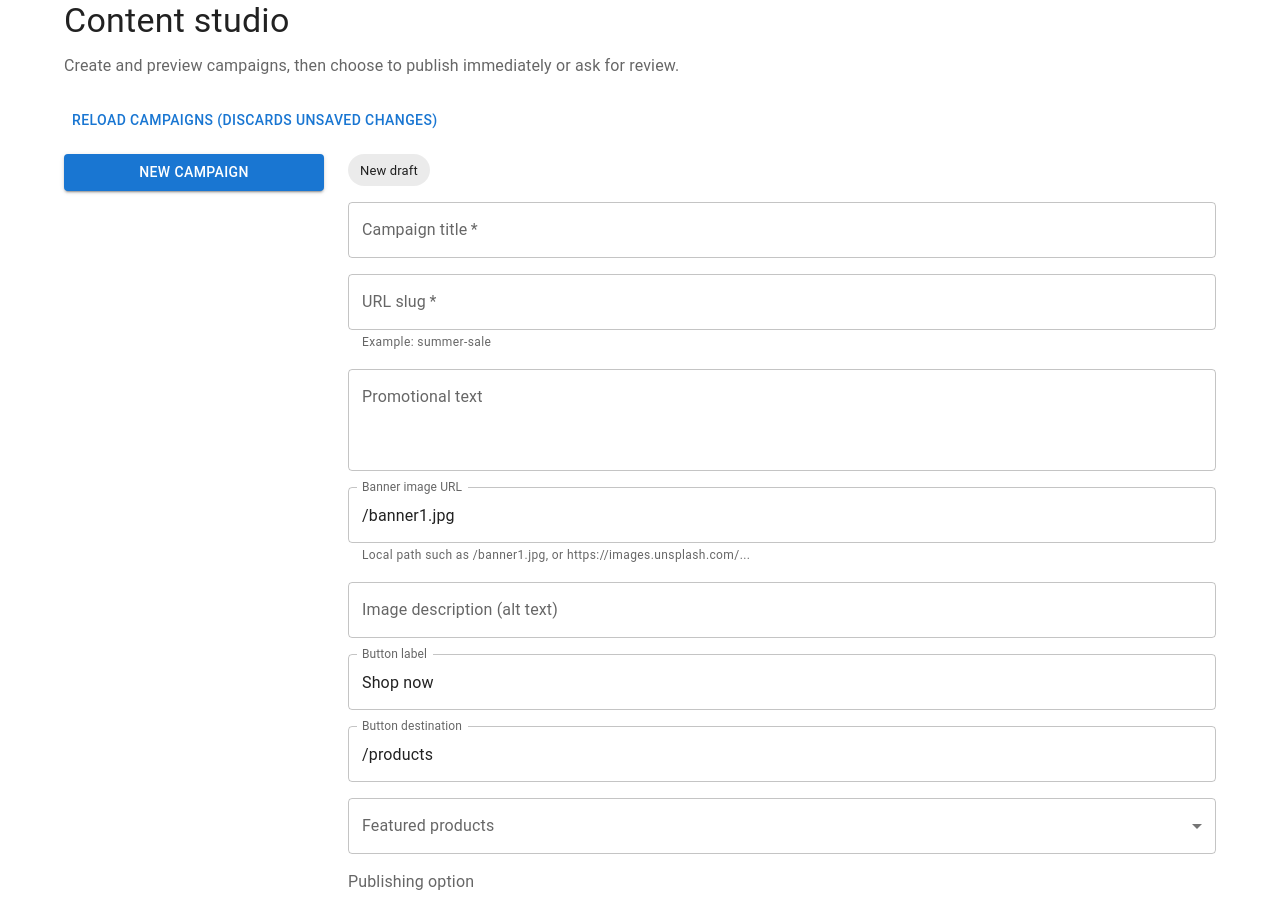
Test case: can choose Publish immediately while creating without saving first
In the field labelled "Campaign title *": {"x": 782, "y": 230} [348, 202, 1216, 258], type "Sale"
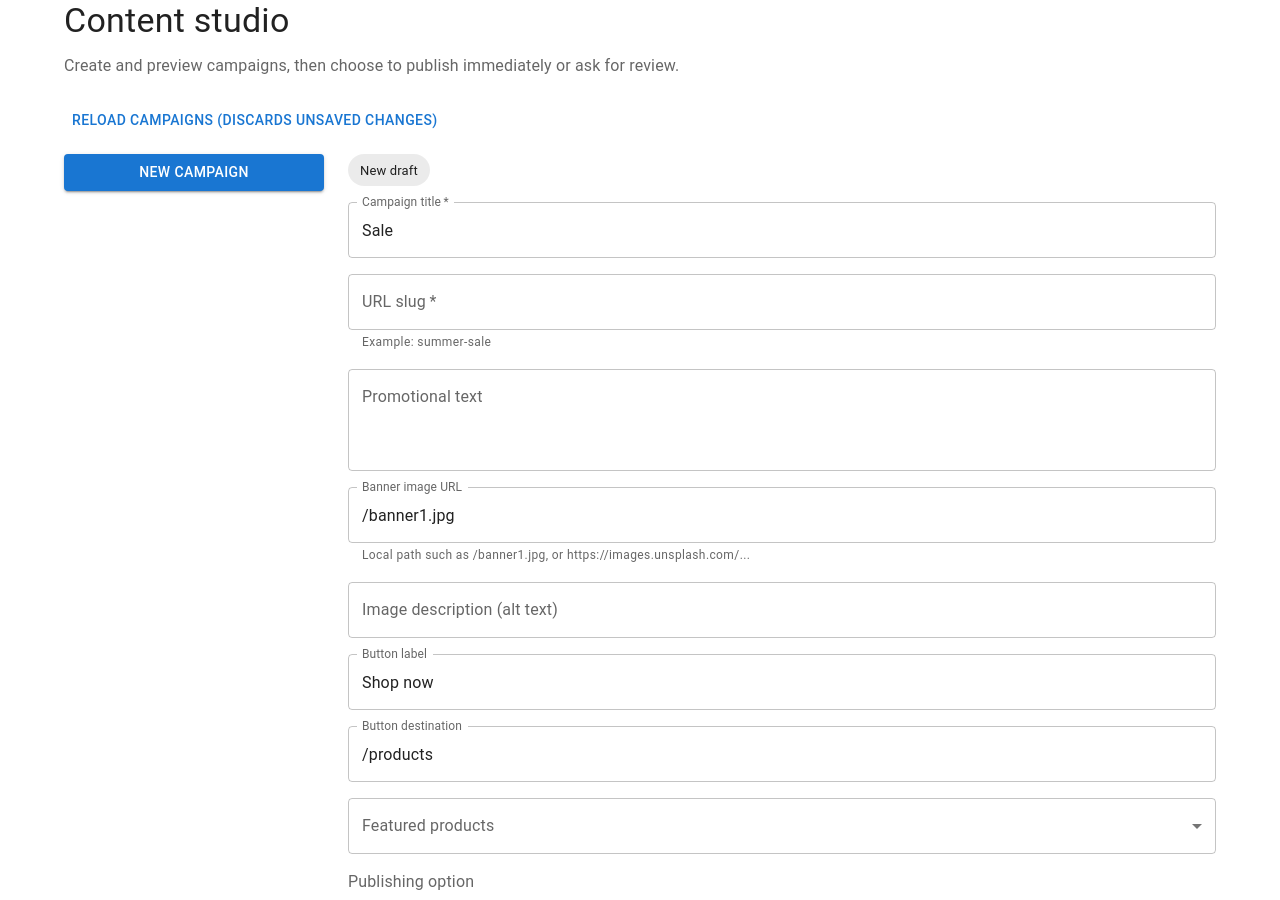
In the field labelled "URL slug *": {"x": 782, "y": 302} [348, 274, 1216, 330], type "sale"
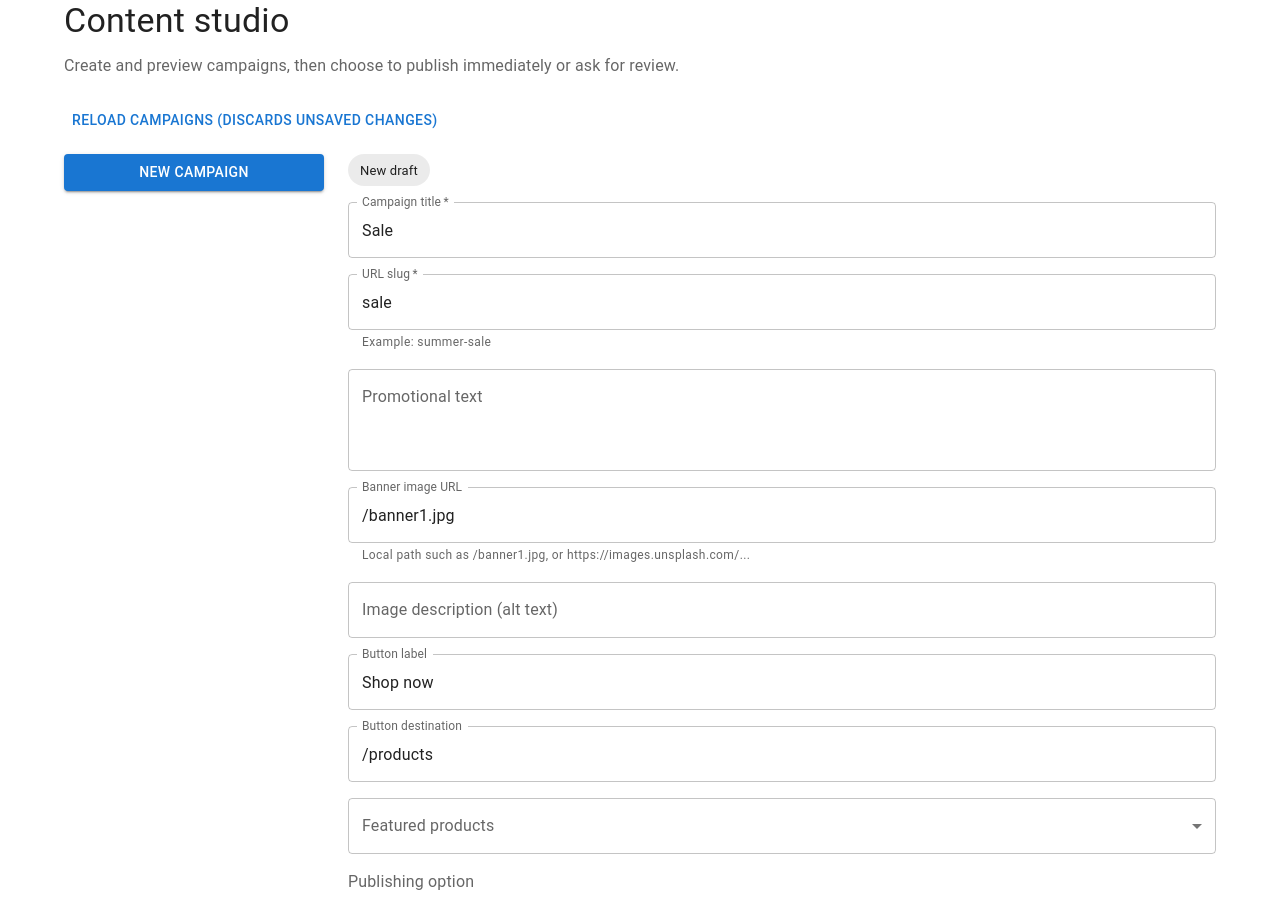
In the text box labelled "Promotional text": {"x": 782, "y": 420} [362, 386, 1202, 455], type "Fresh fruit offers"
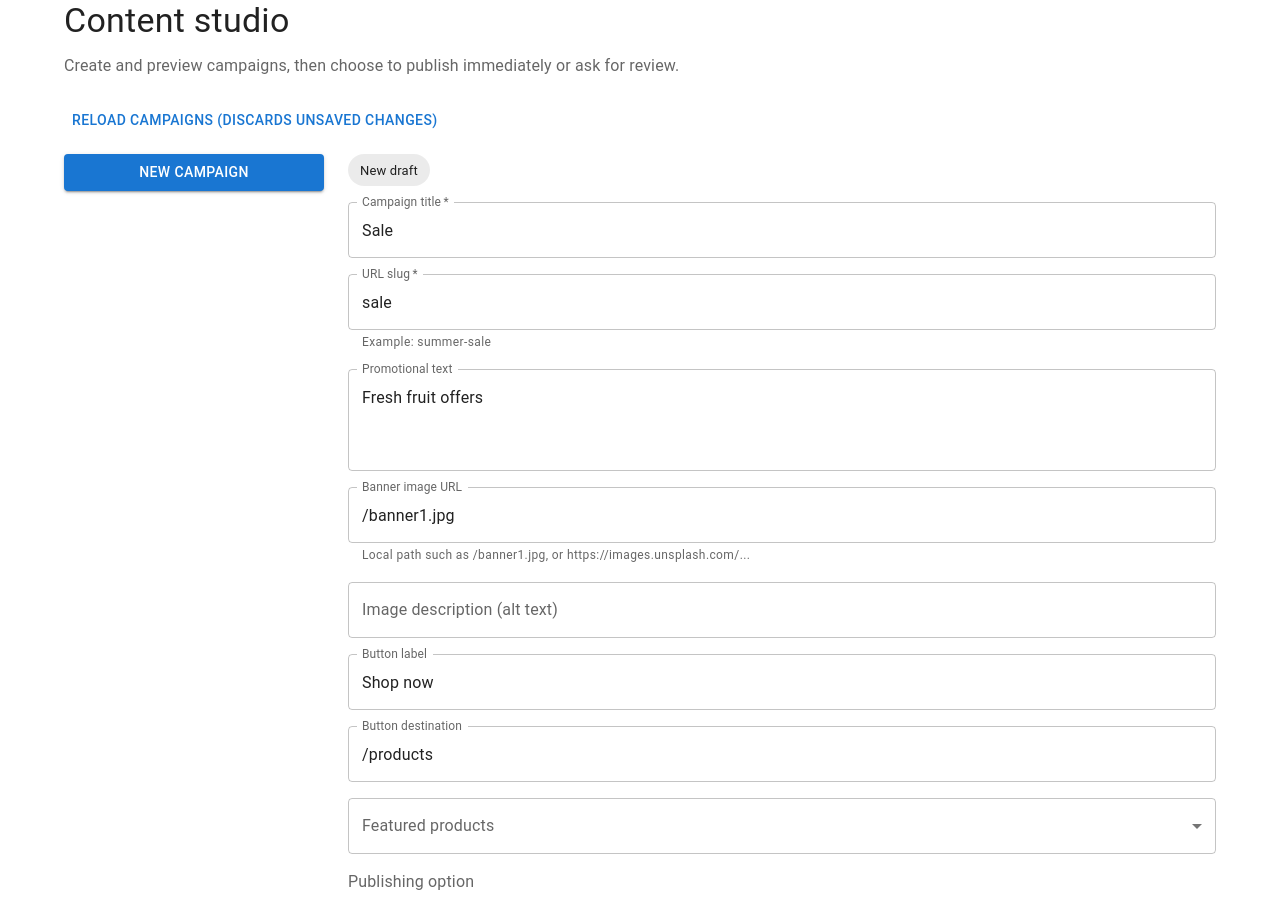
In the field labelled "Image description (alt text)": {"x": 782, "y": 610} [348, 582, 1216, 638], type "Fresh fruit"
(page scrolled)
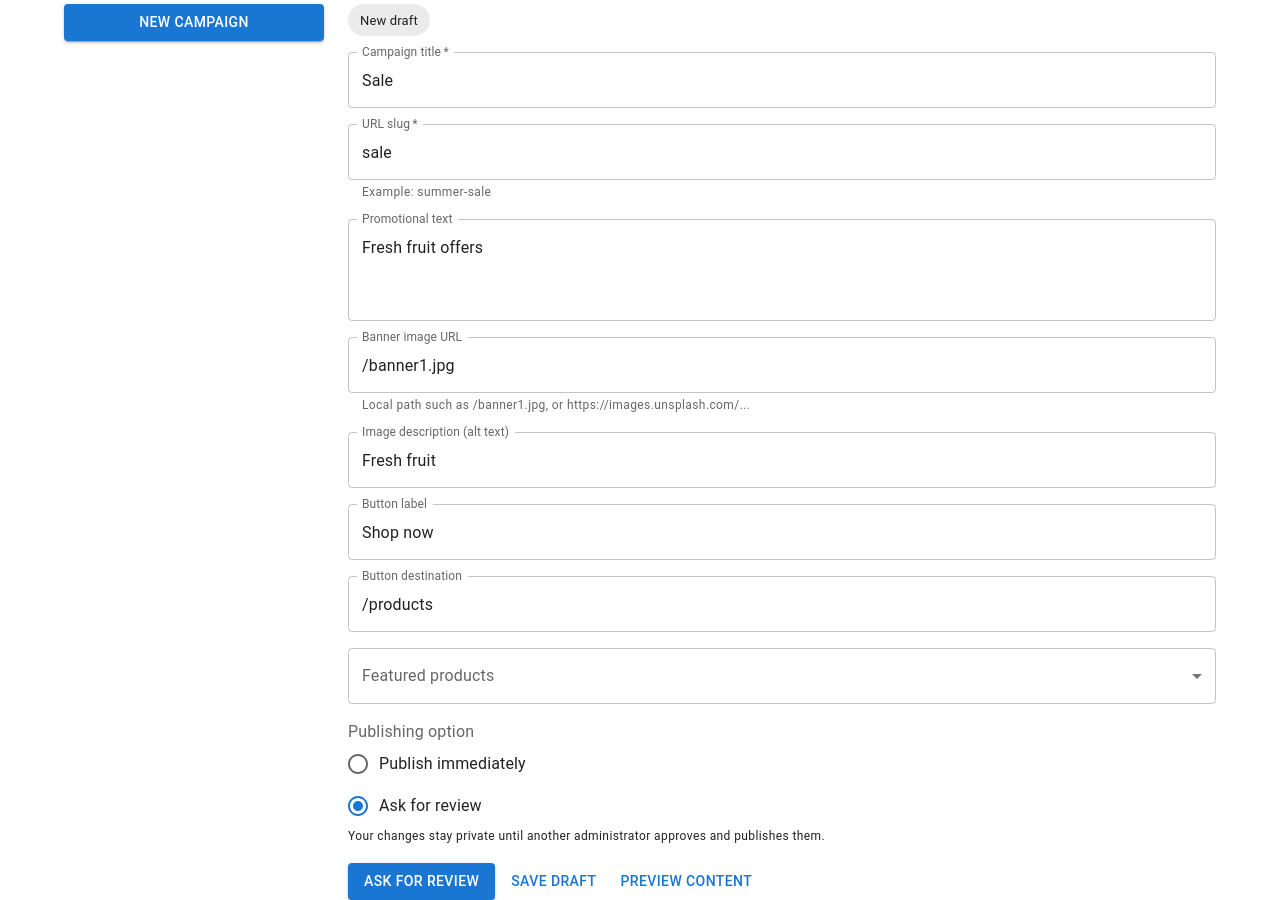
Click the radio button labelled "Publish immediately": {"x": 436, "y": 764} [346, 752, 526, 776]
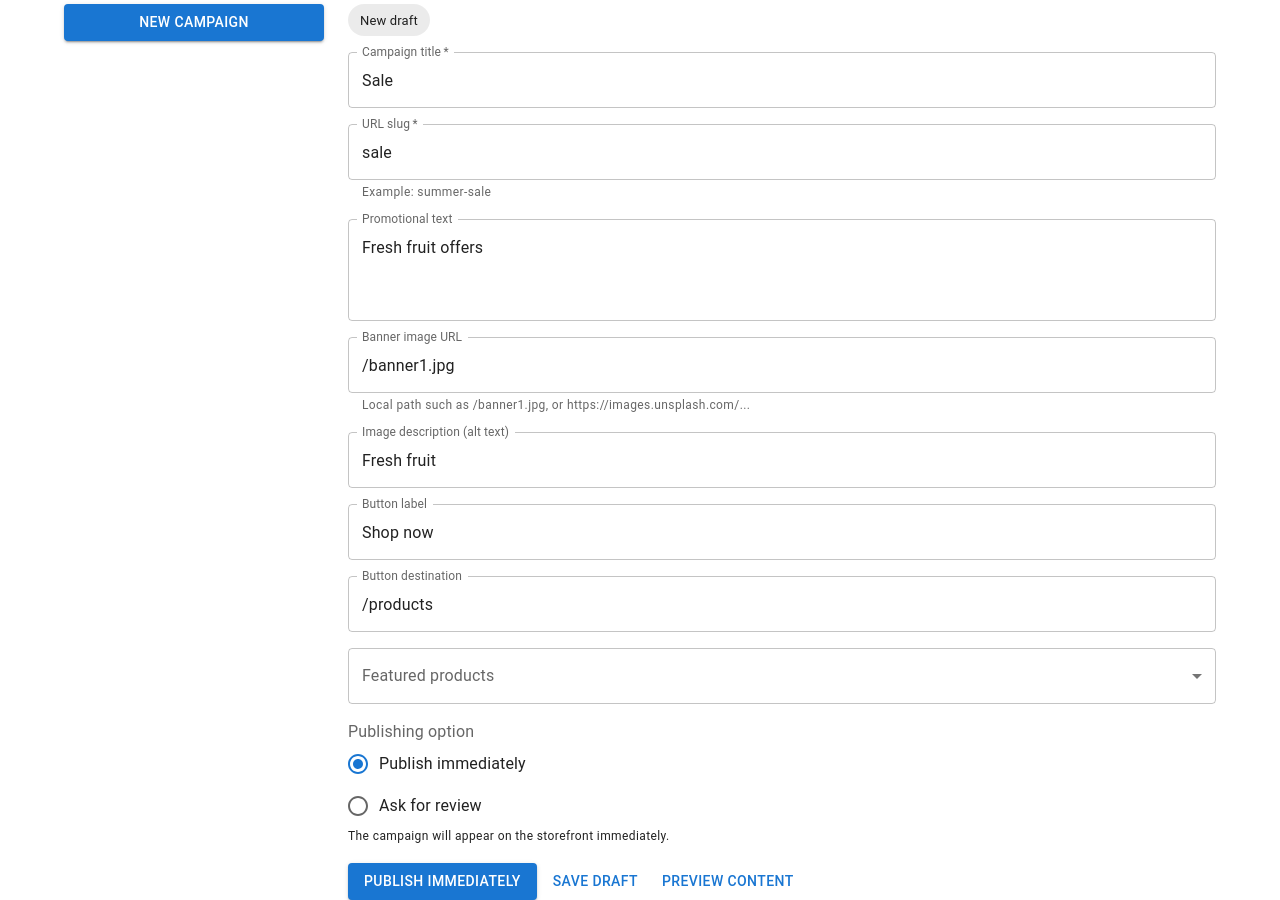
Click the button "Publish immediately": {"x": 442, "y": 881} [348, 863, 537, 899]
(page scrolled)
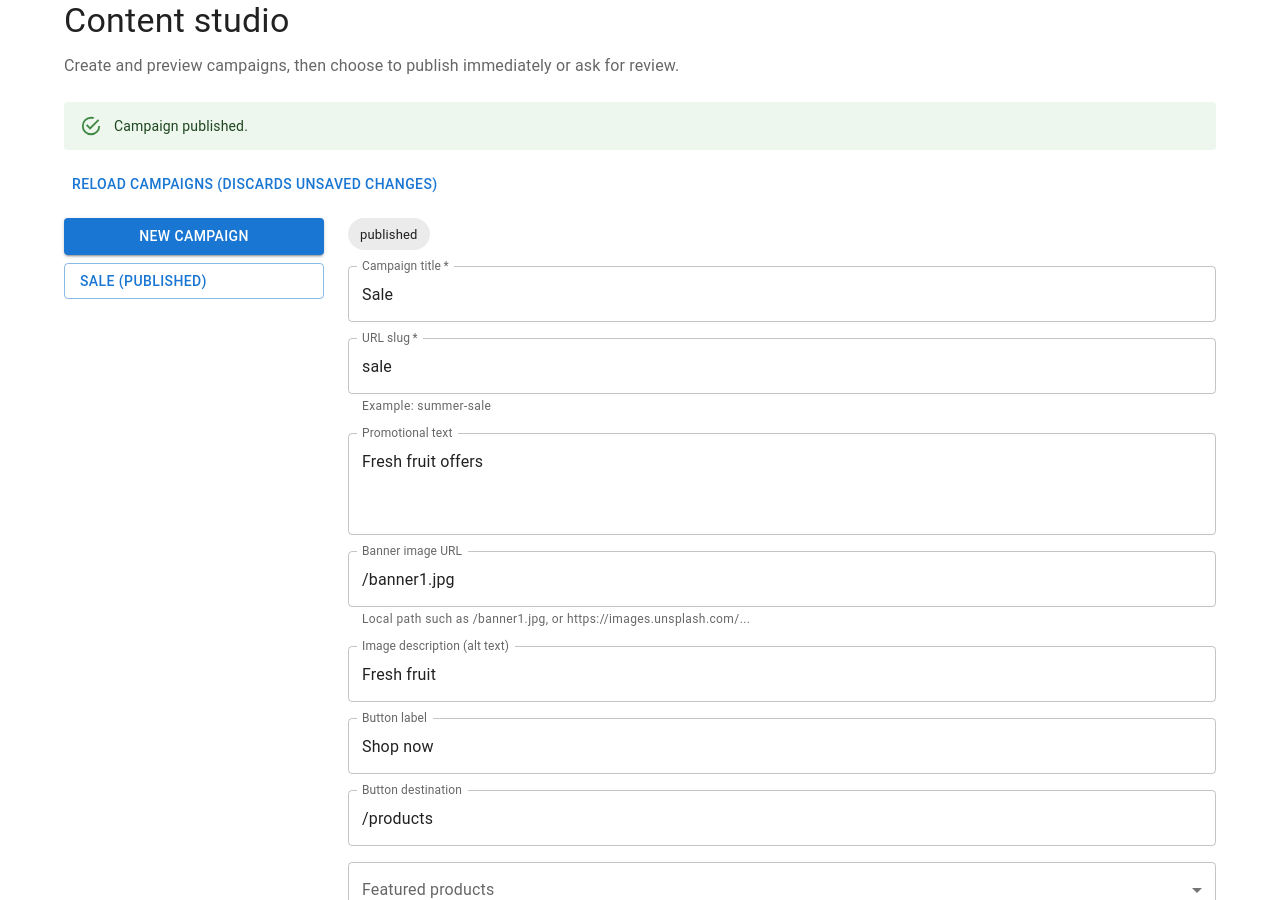
Expected: the text "Campaign published." is shown, [114, 118, 248, 134]
